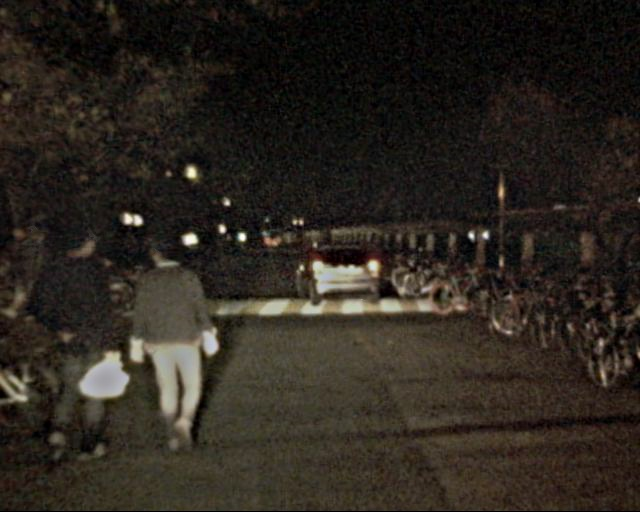person: (44, 217, 112, 475), (141, 231, 217, 450)
